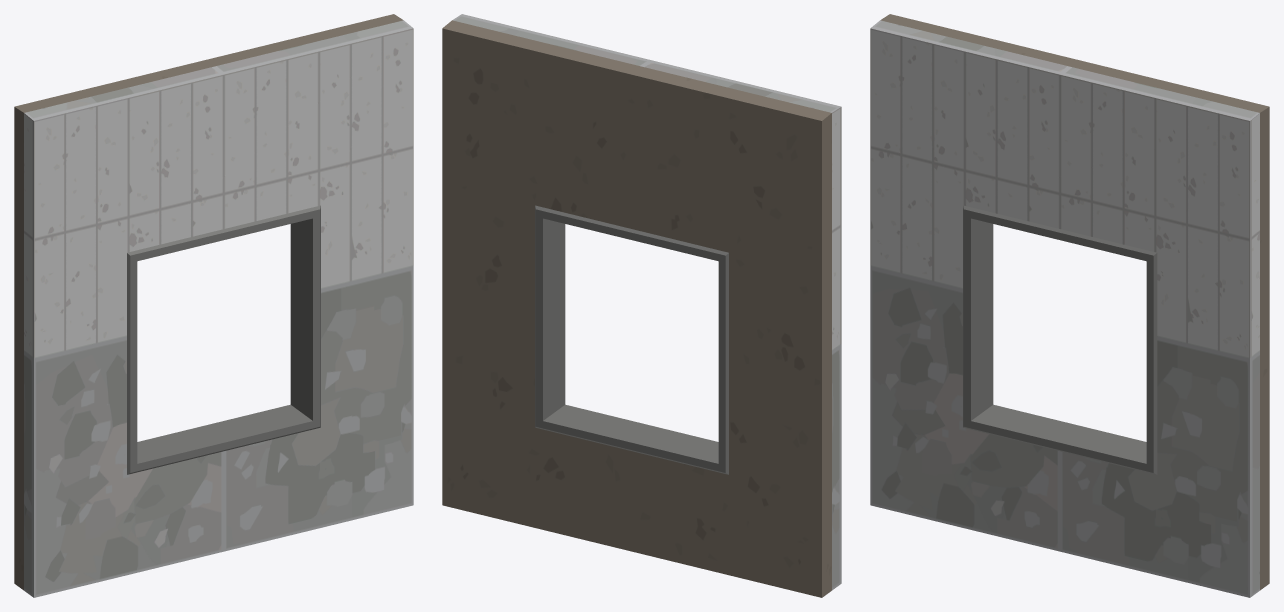
File: SM_Bld_Base_Wall_Window_01_1014.obj
3 views of the same model, side by side, from view 1: azimuth 30°, elevation 25°; view 2: azimuth 150°, elevation 25°; view 3: azimuth 330°, elevation 25° (orthographic).
Parts seen in each view (by area): view 1: SM_Bld_Base_Wall_Window_01_2, SM_Bld_Base_Wall_Window_01_0, SM_Bld_Base_Wall_Window_01_1; view 2: SM_Bld_Base_Wall_Window_01_1, SM_Bld_Base_Wall_Window_01_0, SM_Bld_Base_Wall_Window_01_2; view 3: SM_Bld_Base_Wall_Window_01_2, SM_Bld_Base_Wall_Window_01_0, SM_Bld_Base_Wall_Window_01_1.
Boxes of the visible parts, x1,y1,x2,y2 form: SM_Bld_Base_Wall_Window_01_2: (24,20,413,597); SM_Bld_Base_Wall_Window_01_0: (127,205,320,474); SM_Bld_Base_Wall_Window_01_1: (14,14,403,590); SM_Bld_Base_Wall_Window_01_1: (442,20,831,597); SM_Bld_Base_Wall_Window_01_0: (535,205,728,474); SM_Bld_Base_Wall_Window_01_2: (452,14,841,590); SM_Bld_Base_Wall_Window_01_2: (870,20,1259,597); SM_Bld_Base_Wall_Window_01_0: (963,205,1157,474); SM_Bld_Base_Wall_Window_01_1: (880,14,1269,590).
Bounding box in the file's own units: 2.5 × 3.01 × 0.2556.
Materials: 3 (3 with a texture image).
